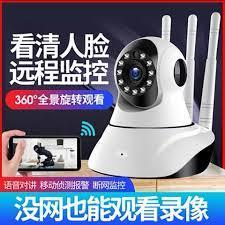maru: (113, 31, 188, 110)
